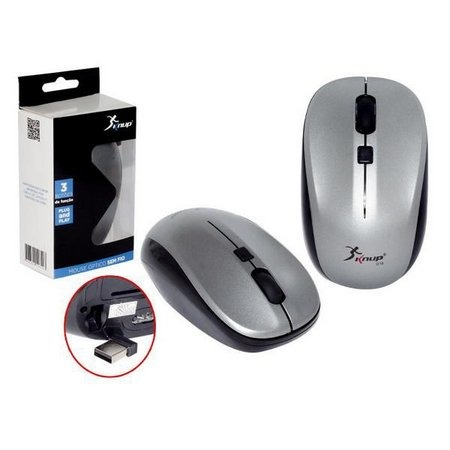mouse: (297, 75, 434, 291), (134, 205, 322, 351)
